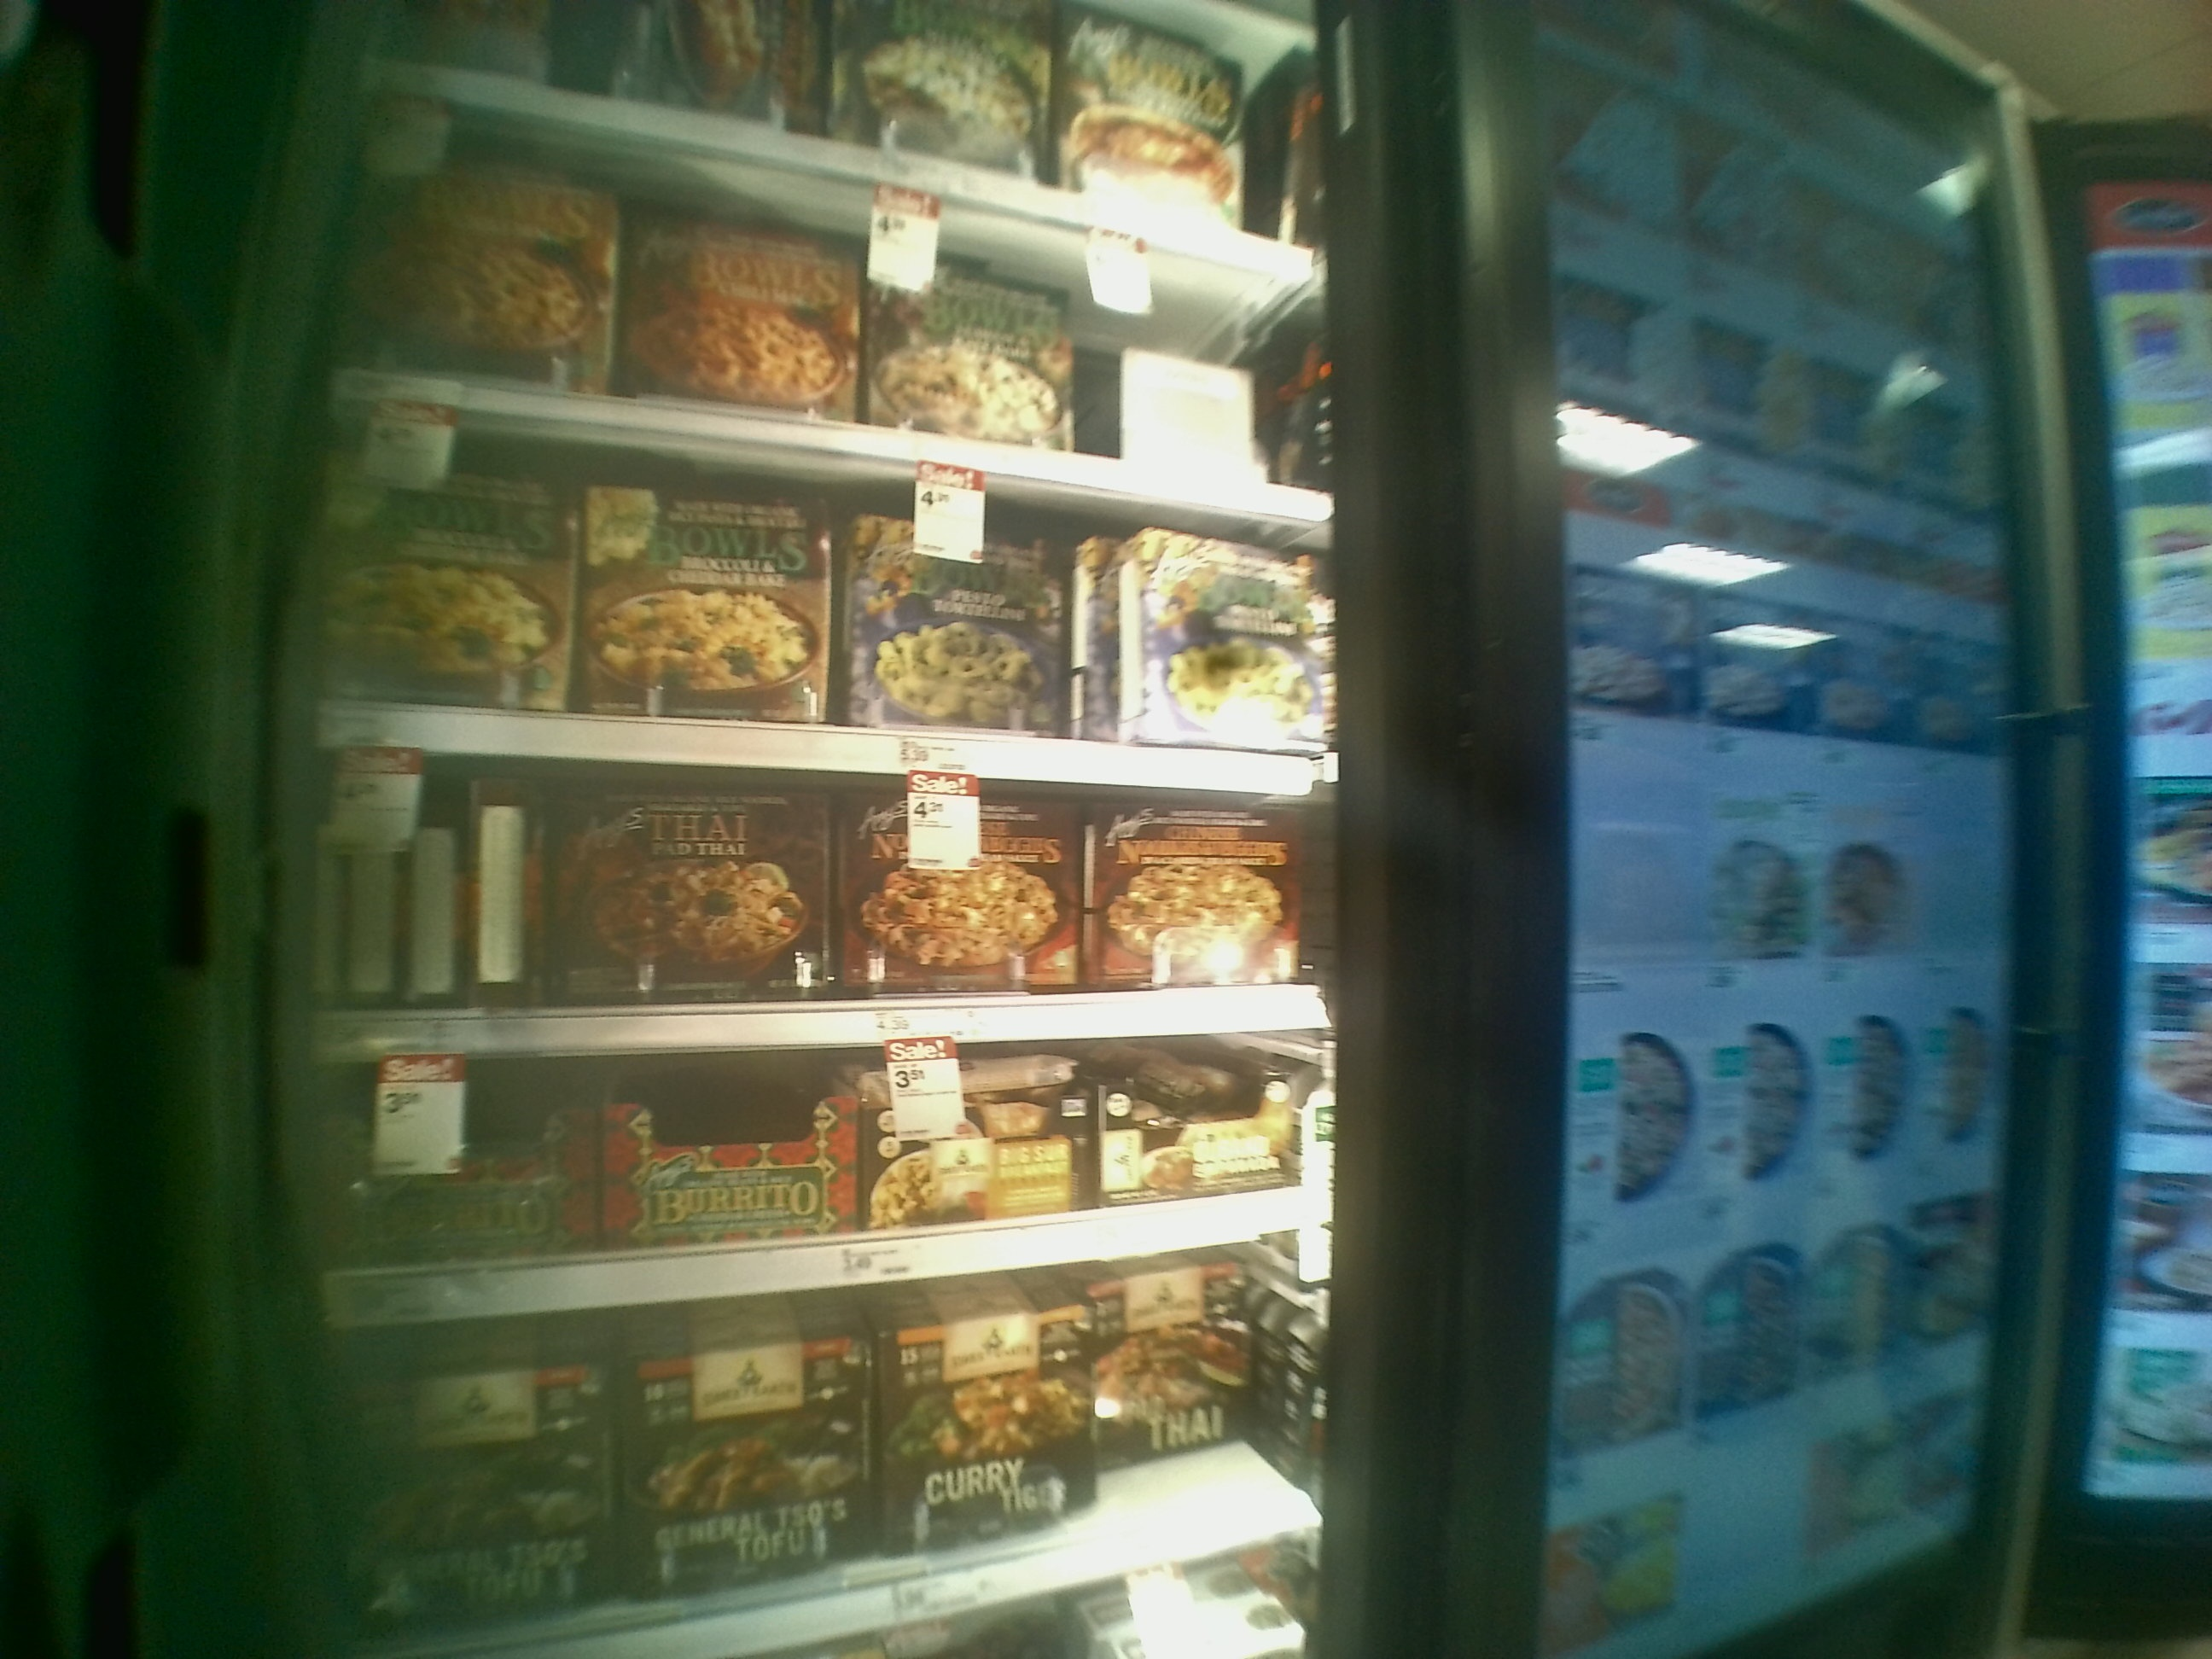shelf: (310, 498, 1338, 769), (314, 775, 1325, 1028), (315, 1033, 1322, 1251)
